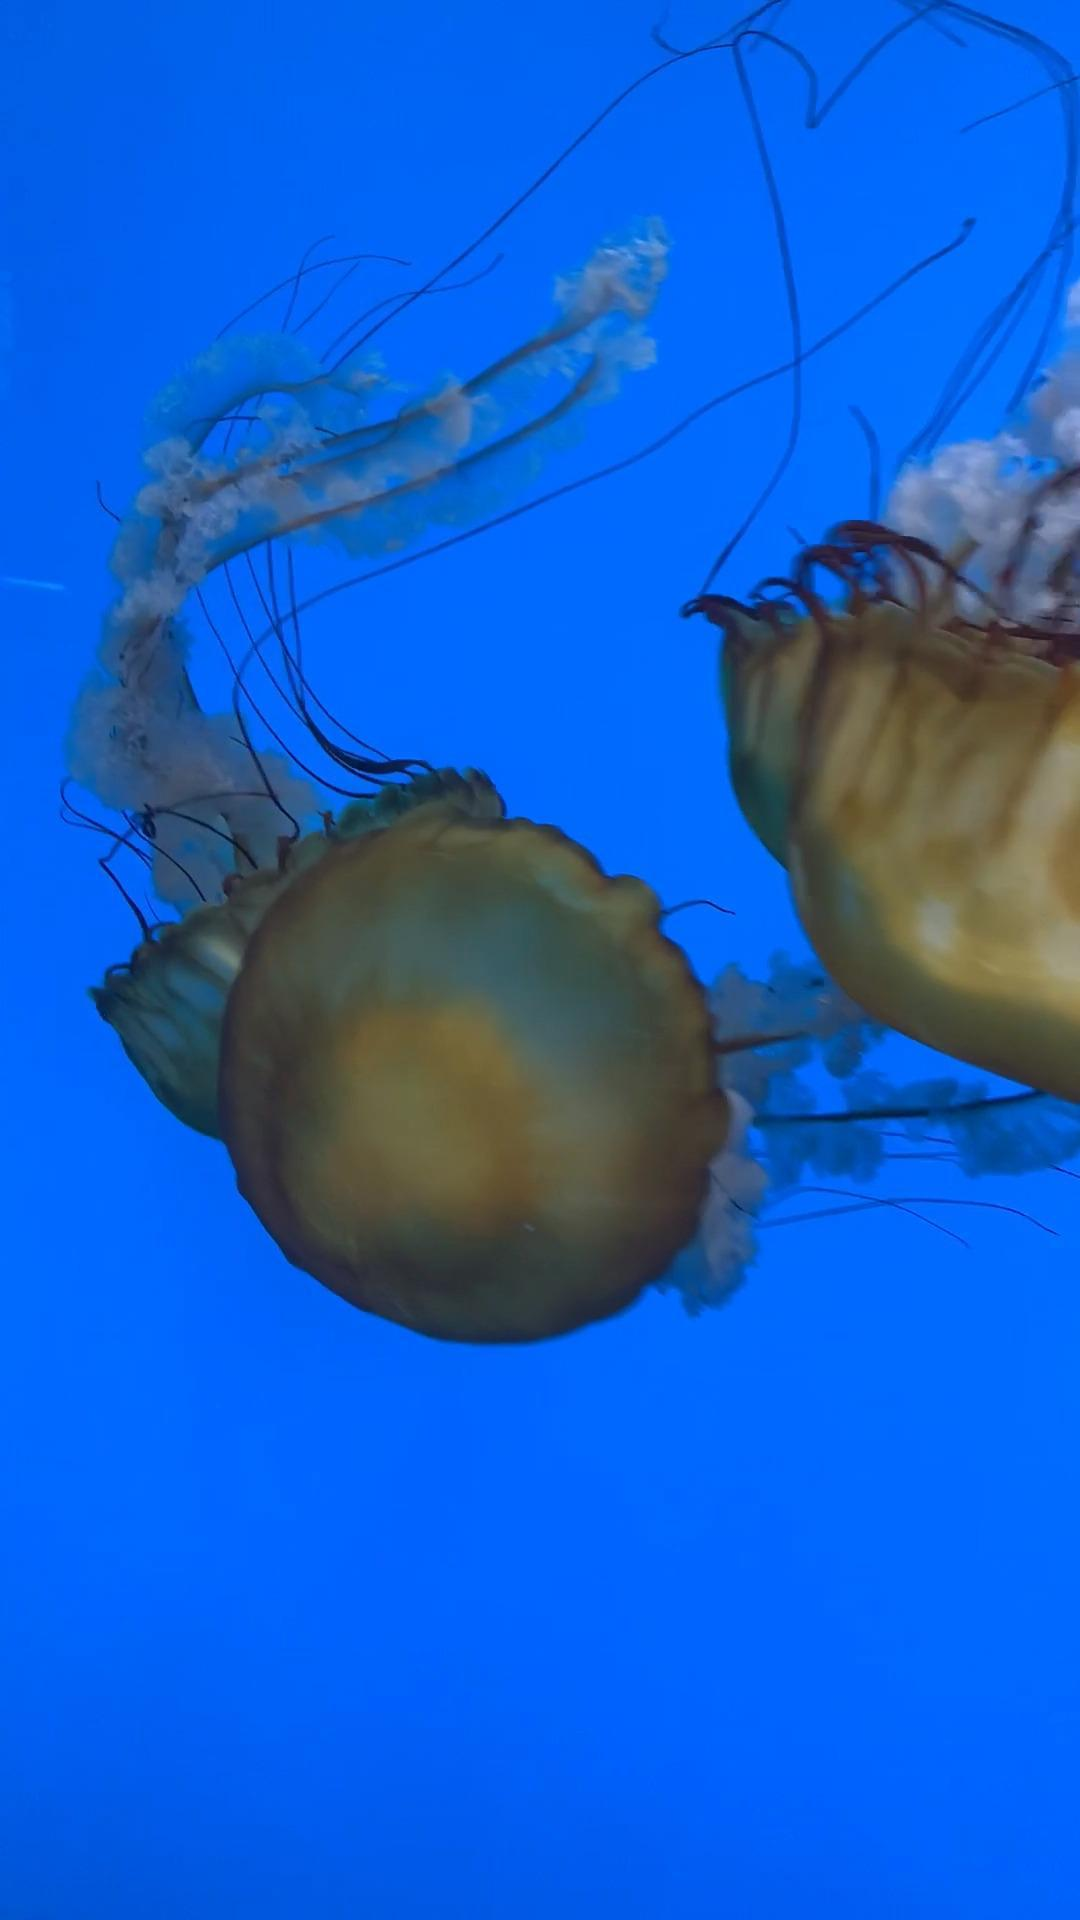jellyfish: (222, 771, 731, 1349), (721, 605, 1080, 1110), (96, 781, 501, 1145)
